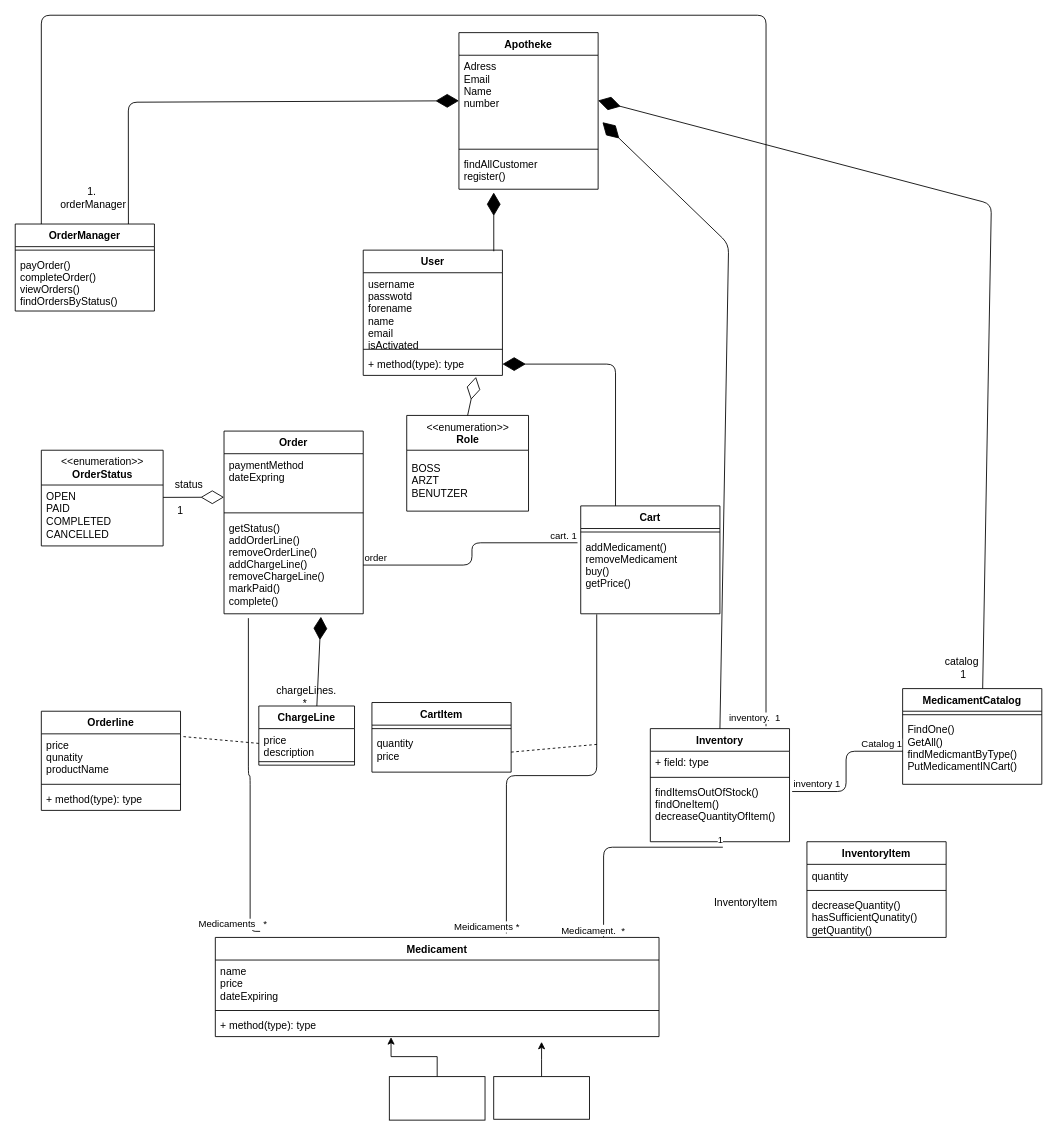
Some shapes in this 1057 by 1135 pixel diagram are drawn without their labels. The shapes that lost their labels are listed below. From the top down, each one's centre as x and y in pixels, then its label:
the point at 436,1098: PrescriptionFree
the point at 541,1097: PrescriptionOnly
